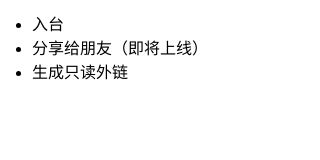
ShareMenu（分享菜单） › 入台失败不谎报成功：回调不被调用且给出失败态
Click the menu item with test id "share-menu-add-to-workbench".
click(48, 24)  # box [32,16,64,33]
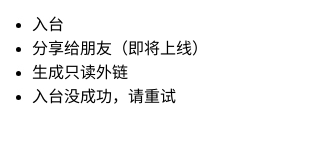
expect the list item with test id "share-menu-error" is shown: met, box [32,88,176,105]
